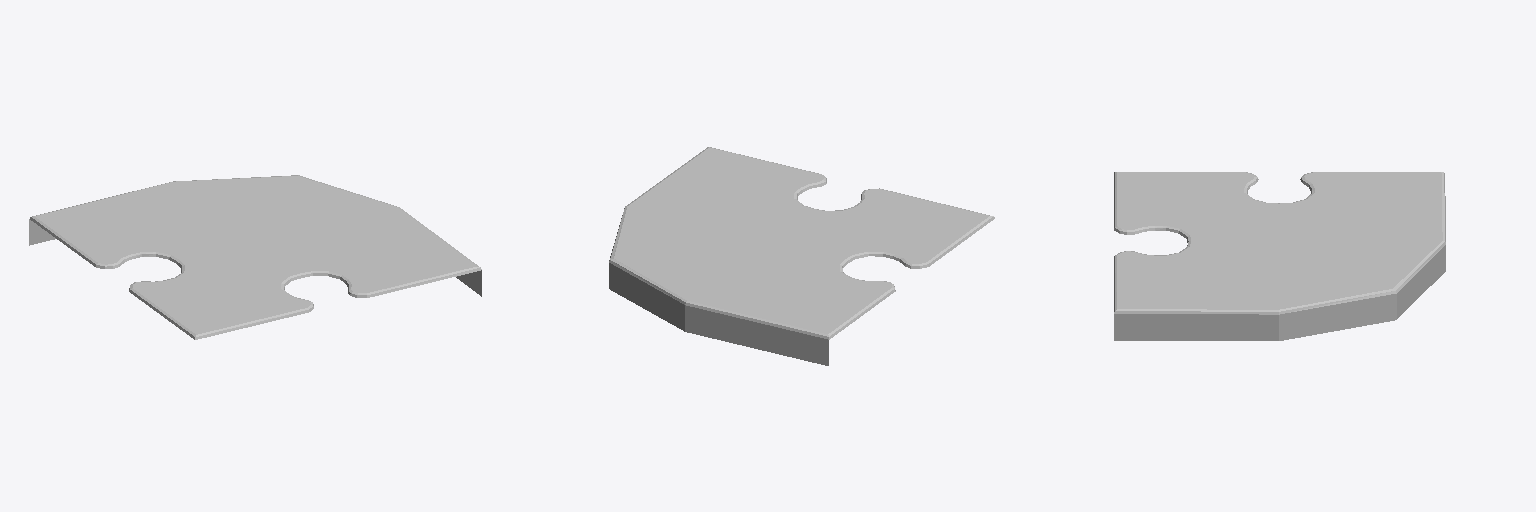
The model's file is Corner Top Right Dips.obj.
3 views of the same model, side by side, from view 1: azimuth 30°, elevation 25°; view 2: azimuth 150°, elevation 25°; view 3: azimuth 270°, elevation 25° (orthographic).
Parts seen in each view (by area): view 1: PuzzleCornerTopRightDips; view 2: PuzzleCornerTopRightDips; view 3: PuzzleCornerTopRightDips.
Part boxes in pixels (left/top/right/bottom): PuzzleCornerTopRightDips: left=29, top=175, right=481, bottom=339; PuzzleCornerTopRightDips: left=609, top=147, right=994, bottom=365; PuzzleCornerTopRightDips: left=1114, top=172, right=1445, bottom=340.
Size of the model in its own units: 593 by 59.05 by 593.